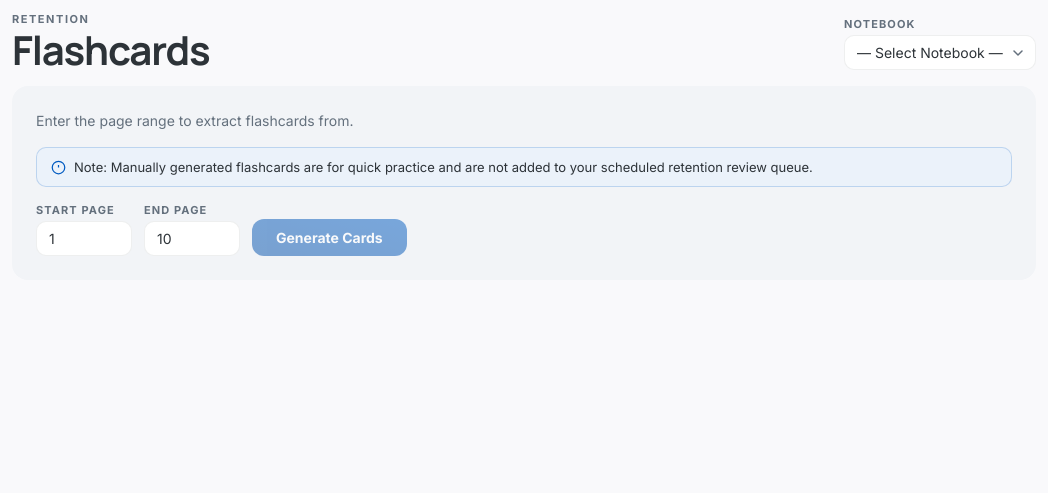
Test case: Flashcards.vue Integration › runs comprehensive flashcard generation and reviews cards
# Select notebook and input page range
Select "Calculus 101" in the dropdown with id "fc-notebook-select" at point(940, 52), box [844,35,1036,70]
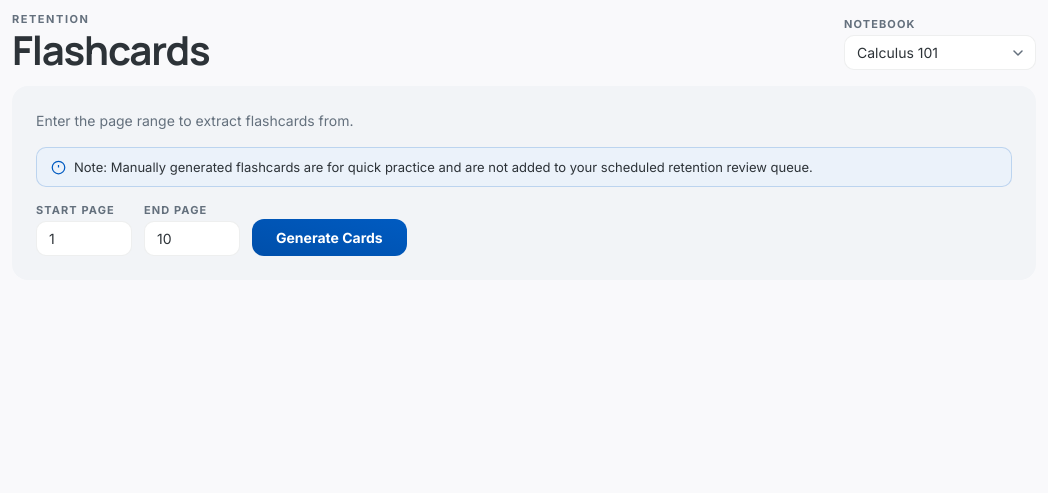
Click the button with id "fc-generate-btn".
click(329, 238)  # box [252,219,407,256]
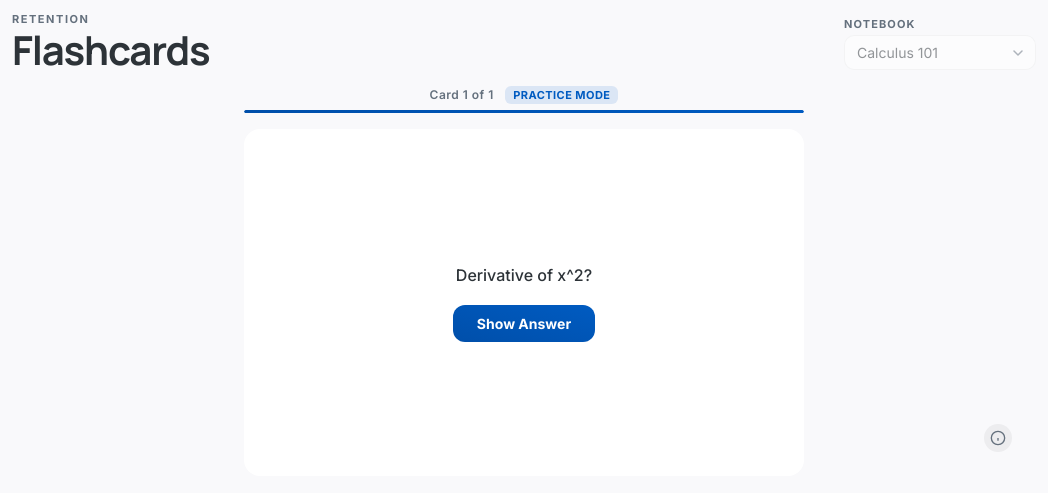
Result: the element with class "review-session" is shown at [244,86,1012,476]
Result: the text "Derivative of x^2?" is shown at [456,263,592,289]
# Click "Show Answer"
Click the button with id "fc-reveal-btn".
click(524, 323)  # box [453,305,595,342]
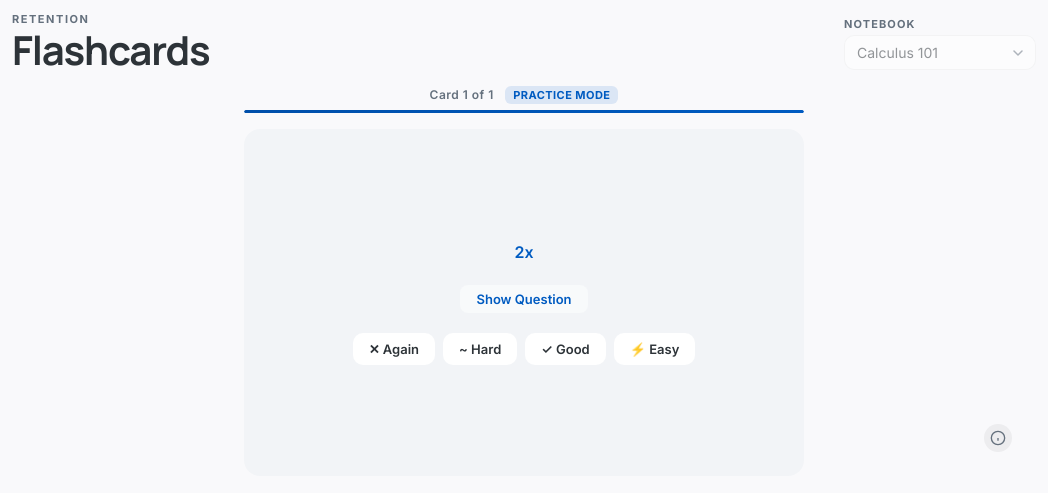
Result: the text "2x" is shown at [514,240,534,265]
# Click Good rating
Click the button with id "fc-rate-good".
click(566, 349)  # box [525,333,606,365]
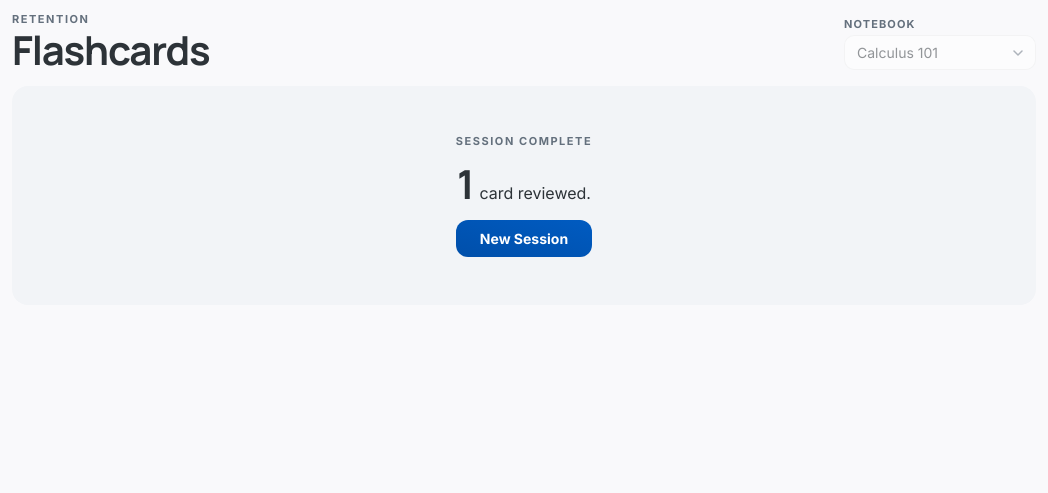
Result: the element with class "done-panel" is shown at [12,86,1036,305]
Result: the text "1 card reviewed" is shown at [457,164,591,204]
